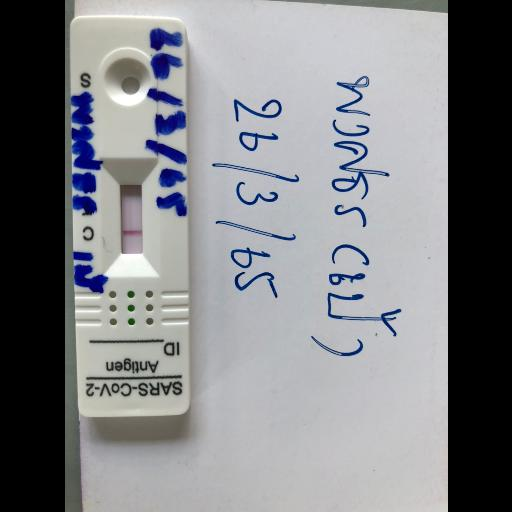Neg: (68, 16, 184, 416)
